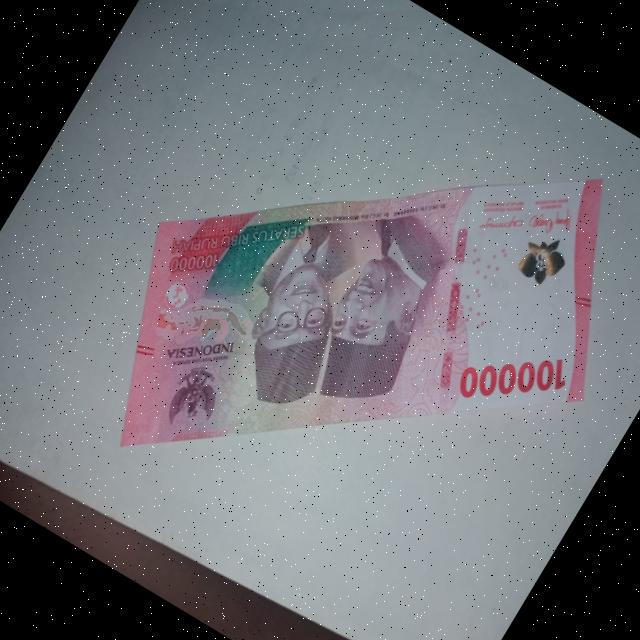100K: (46, 0, 640, 634)
